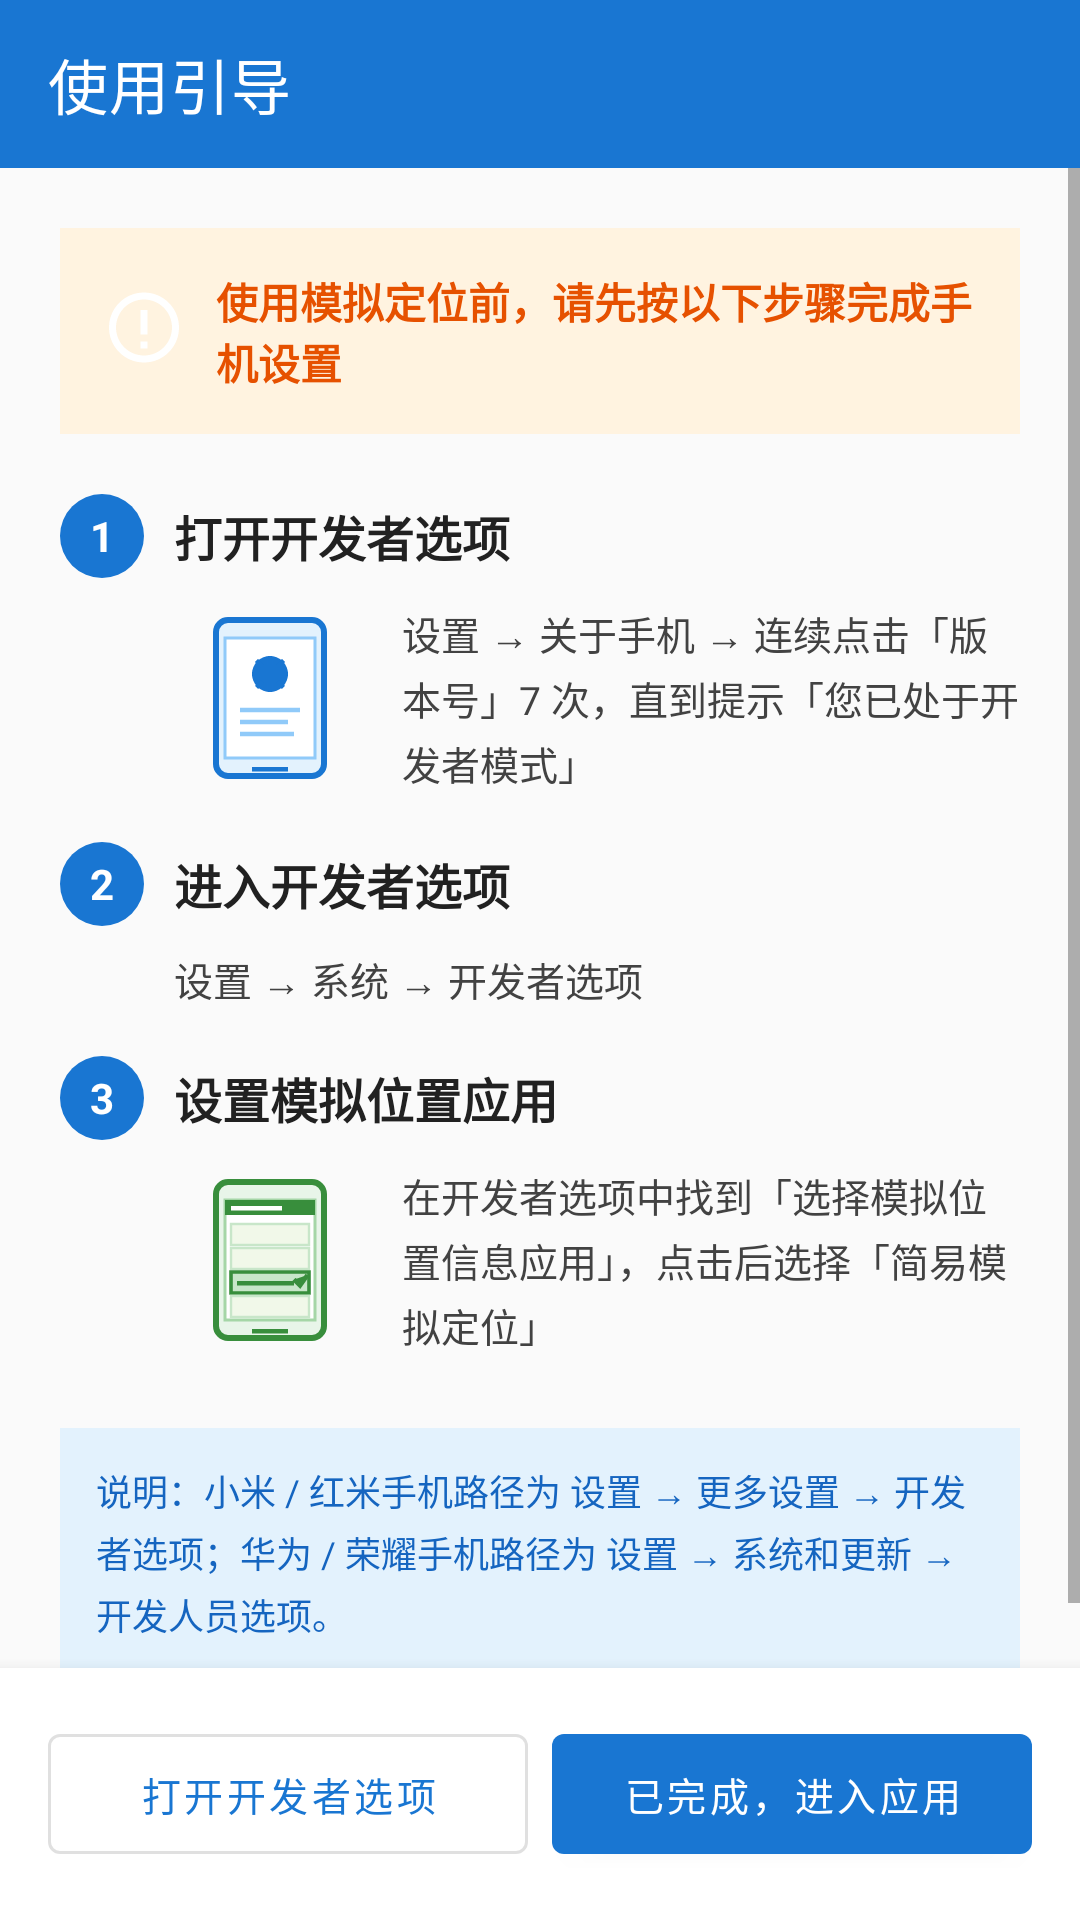

Named icons in this screenshot (1080x1920) and their centers, (x=x, y=y):
warning circle: (x=144, y=327)
